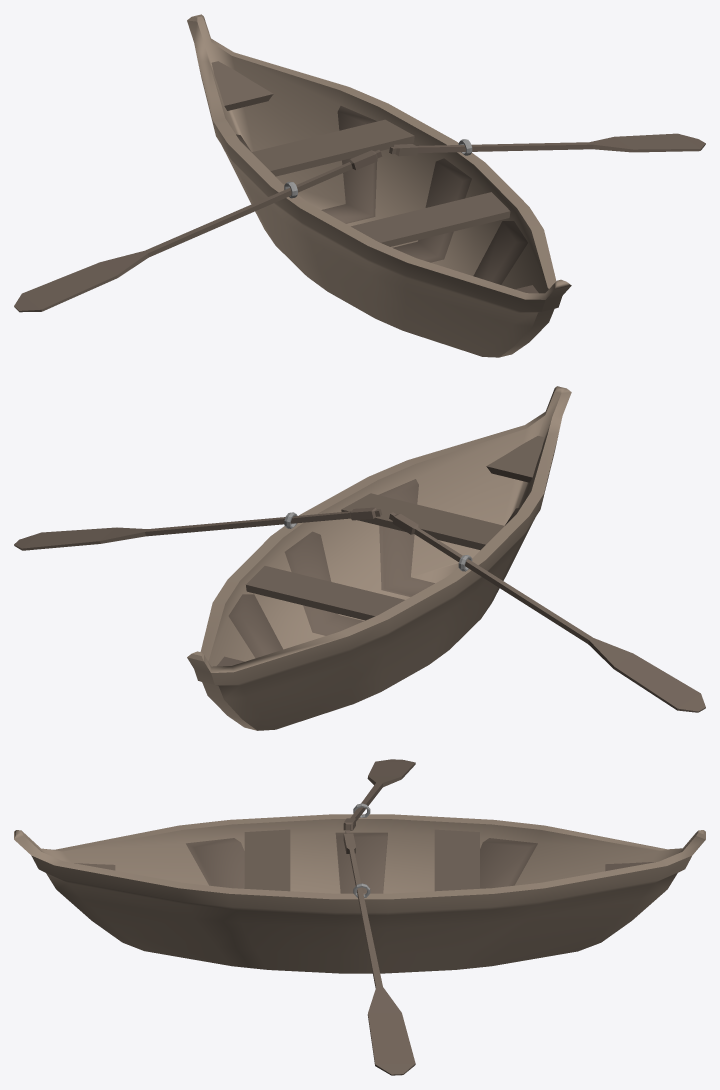
Rendered from Boat.gltf.
3 views of the same model, one above another, from view 1: azimuth 30°, elevation 25°; view 2: azimuth 150°, elevation 25°; view 3: azimuth 270°, elevation 25° (orthographic). The views are drawn at different scales.
Parts seen in each view (by area): view 1: SM_StylizedFarm_Boat; view 2: SM_StylizedFarm_Boat; view 3: SM_StylizedFarm_Boat.
Boxes of the visible parts, <box> form: SM_StylizedFarm_Boat: <box>14,14,705,357</box>; SM_StylizedFarm_Boat: <box>14,386,705,730</box>; SM_StylizedFarm_Boat: <box>14,759,705,1075</box>.
Size of the model in its own units: 5.09 by 0.8896 by 4.72.
1 material, 1 textured.
